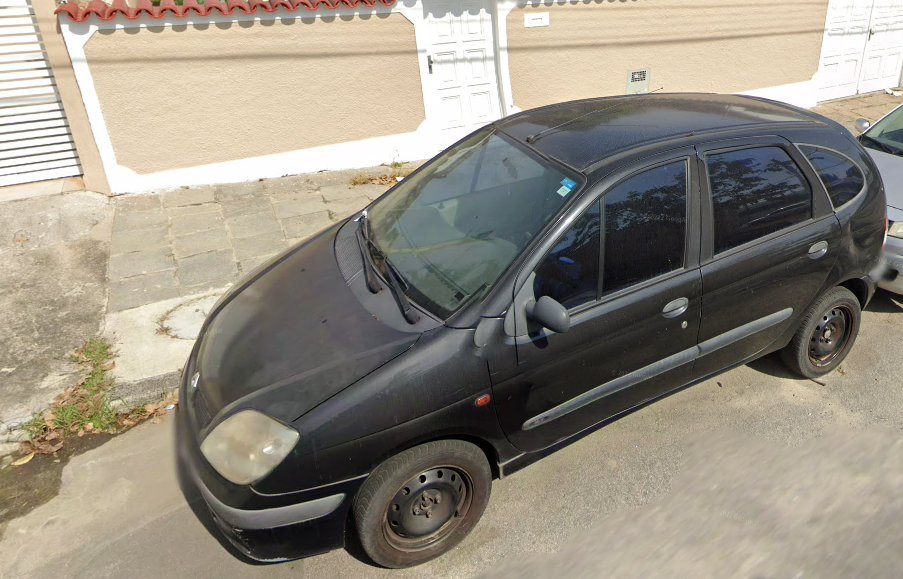car: (162, 92, 888, 572)
